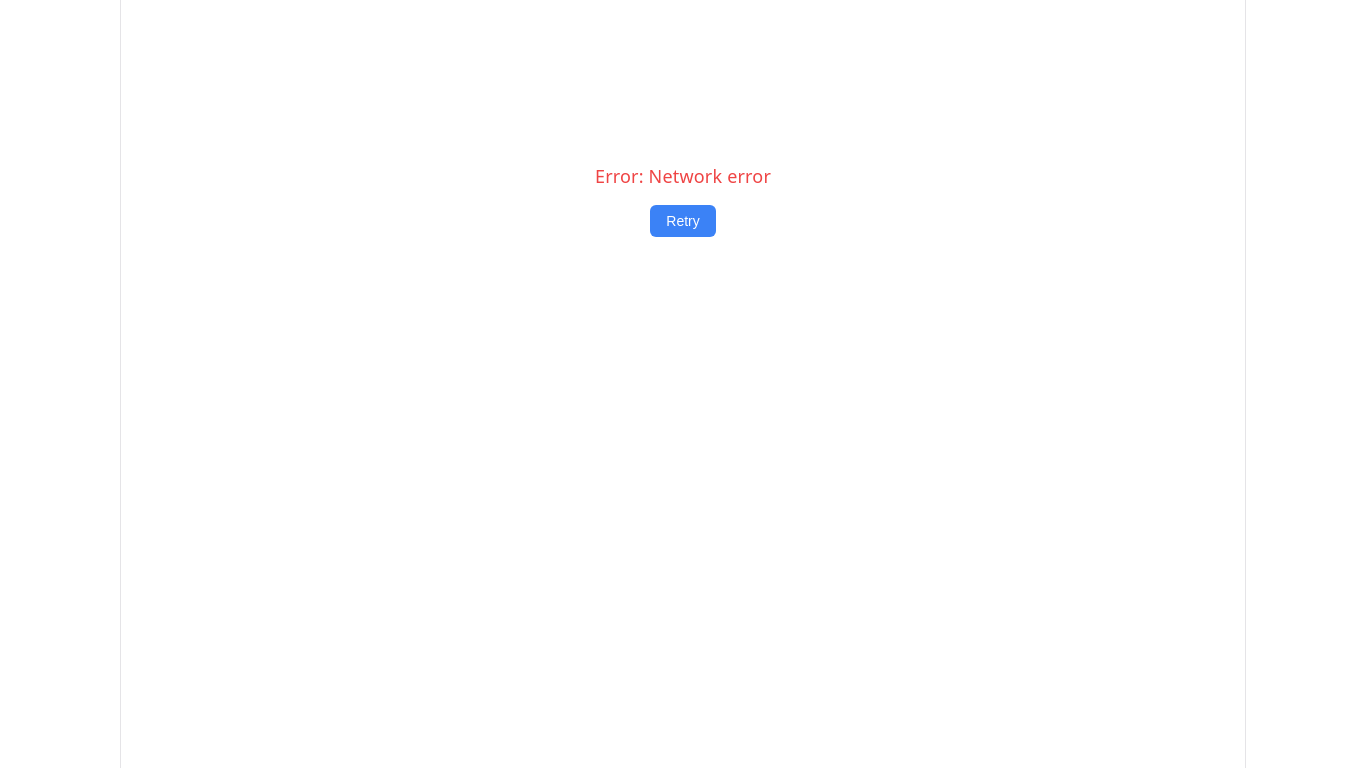
Test: Leaderboard Component › should retry loading on retry button click
Expected: the text "Error: Network error" is shown, [595,163,771,189]
Click retry button
Click the button "Retry".
click(683, 221)  # box [650,205,716,237]
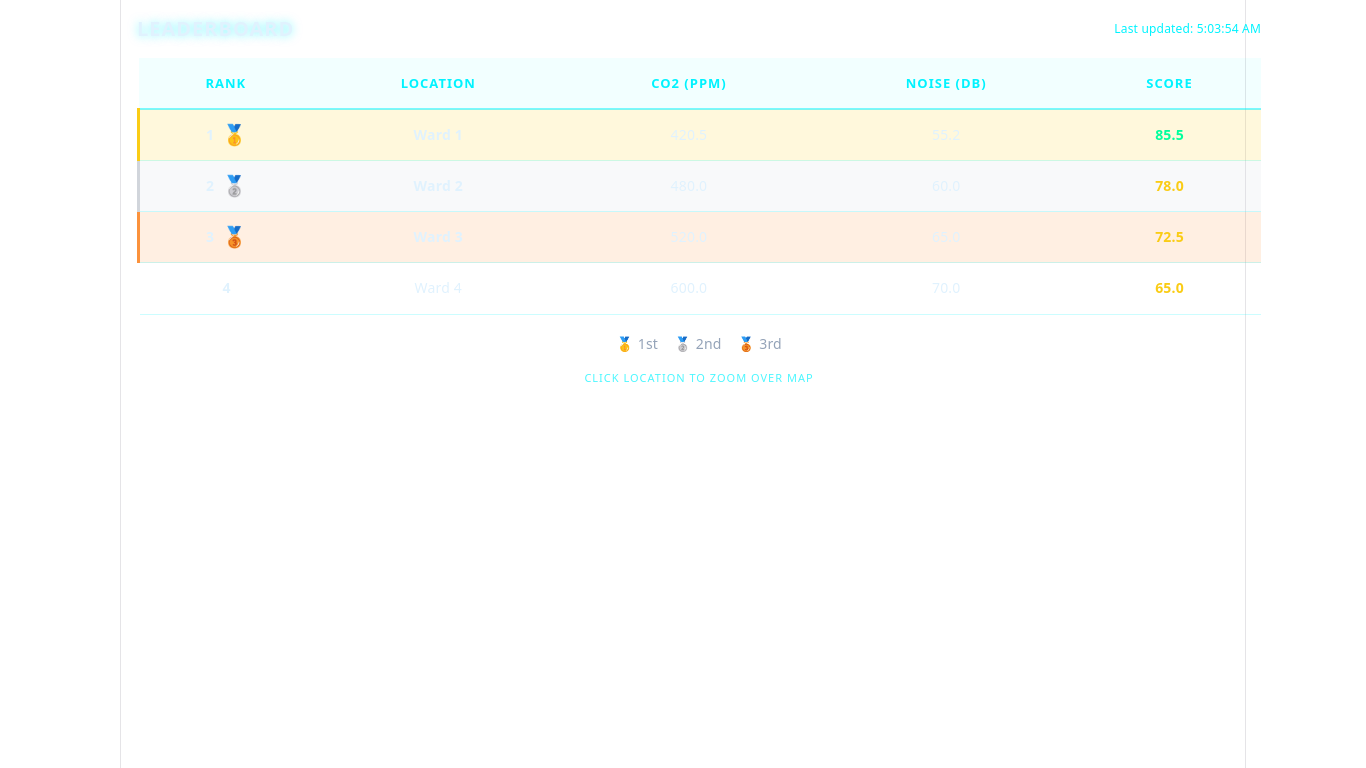
Expected: the text "Ward 1" is shown, [313,109,563,161]
